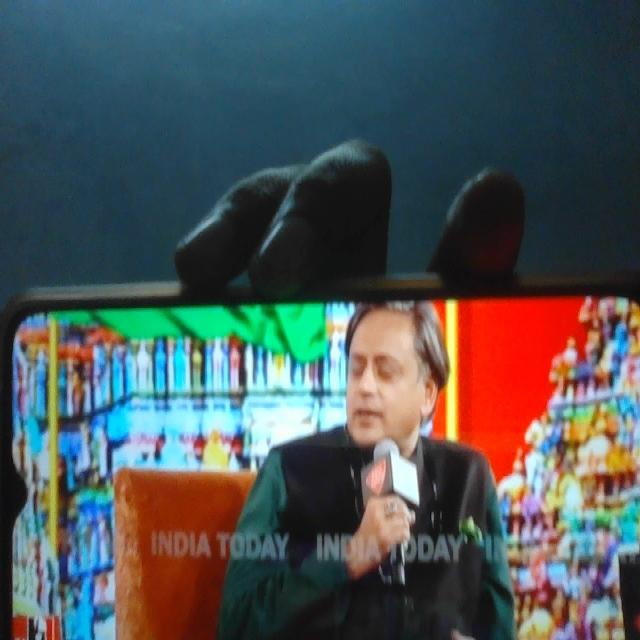fake: (332, 263, 446, 477)
